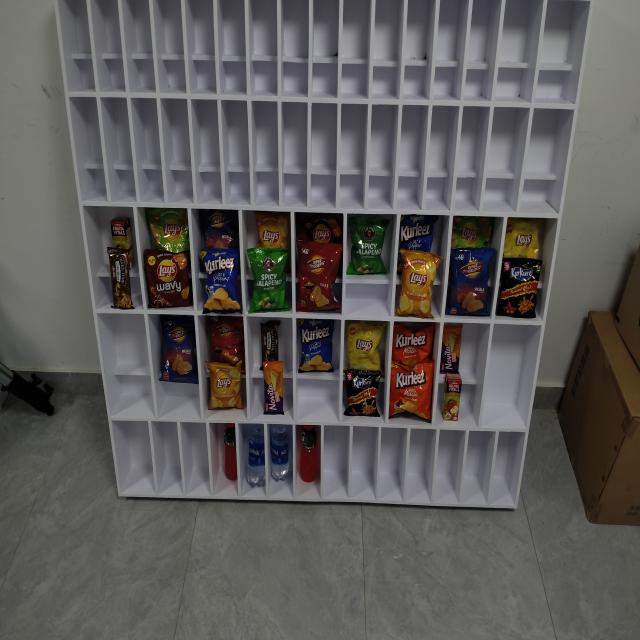Plastic: (298, 247, 340, 316), (448, 252, 491, 312), (250, 250, 288, 312), (149, 252, 189, 310), (502, 260, 540, 320), (350, 213, 386, 273), (402, 254, 436, 316), (204, 250, 238, 310), (107, 248, 136, 312), (198, 211, 236, 254), (147, 211, 189, 248), (395, 216, 435, 252), (509, 218, 544, 258), (299, 214, 339, 244), (440, 324, 464, 374), (456, 220, 494, 248), (256, 216, 286, 246), (443, 380, 462, 422), (110, 218, 134, 243)
